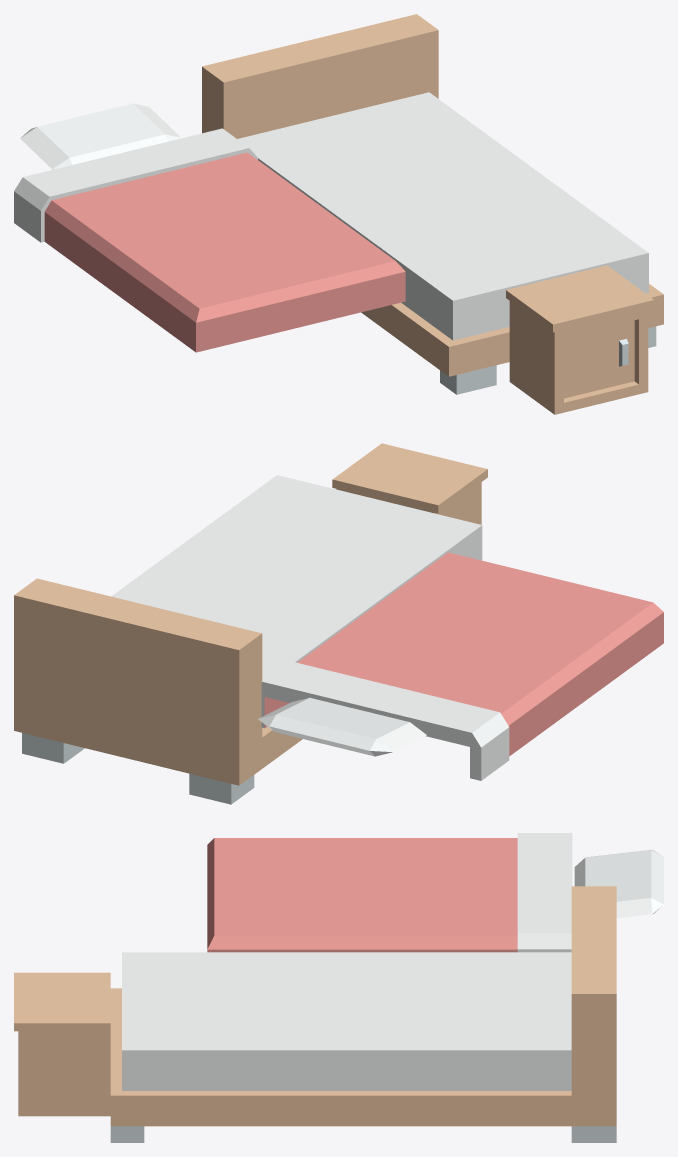
The model's file is murphyBedUnfolded.glb.
3 views of the same model, one above another, from view 1: azimuth 30°, elevation 25°; view 2: azimuth 150°, elevation 25°; view 3: azimuth 270°, elevation 25° (orthographic). The views are drawn at different scales.
Parts seen in each view (by area): view 1: bedSingle(Clone), cover, cabinetBed(Clone), pillow, door; view 2: bedSingle(Clone), cover, cabinetBed(Clone), pillow; view 3: bedSingle(Clone), cover, cabinetBed(Clone), pillow.
Boxes of the visible parts, x1,y1,x2,y2 form: bedSingle(Clone): [202, 14, 663, 394]; cover: [14, 128, 405, 352]; cabinetBed(Clone): [506, 265, 654, 414]; pillow: [20, 103, 181, 169]; door: [564, 320, 634, 398]; bedSingle(Clone): [14, 475, 482, 804]; cover: [261, 552, 663, 780]; cabinetBed(Clone): [332, 443, 487, 524]; pillow: [258, 697, 426, 756]; bedSingle(Clone): [110, 886, 616, 1142]; cover: [207, 833, 572, 952]; cabinetBed(Clone): [14, 972, 110, 1116]; pillow: [574, 849, 663, 918].
Size of the model in its own units: 1.12 by 0.375 by 1.45.
